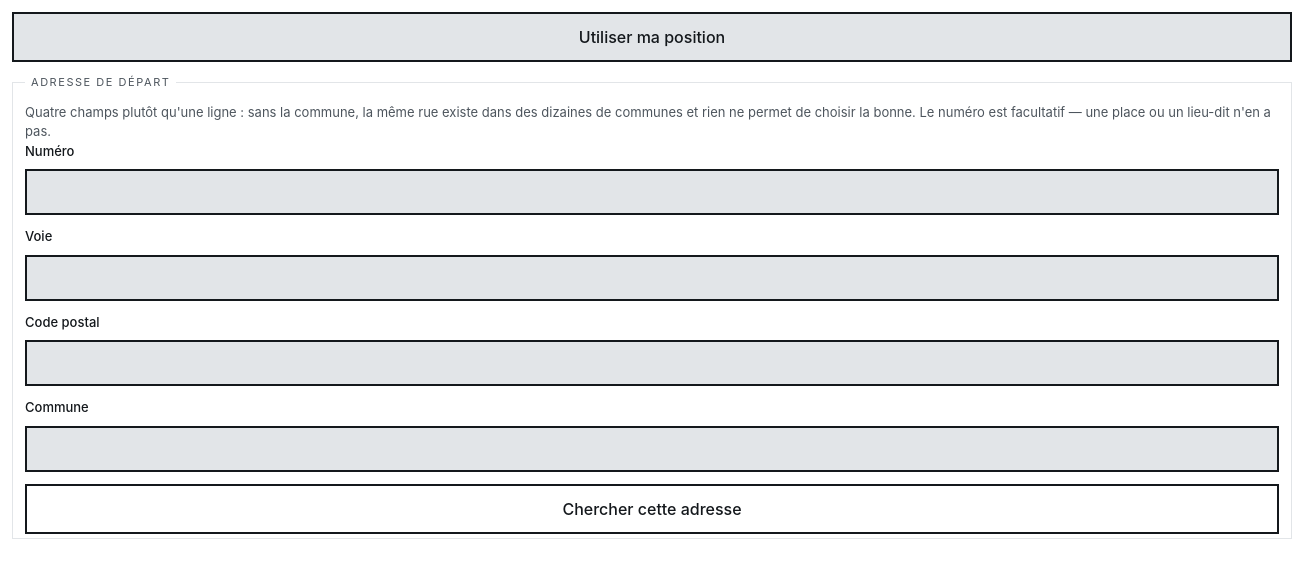
le formulaire à champs obligatoires › affiche la phrase de l'API quand aucune adresse n'est trouvée
Type "7" into the field labelled "Numéro" at (652, 192), box [25, 169, 1279, 215]
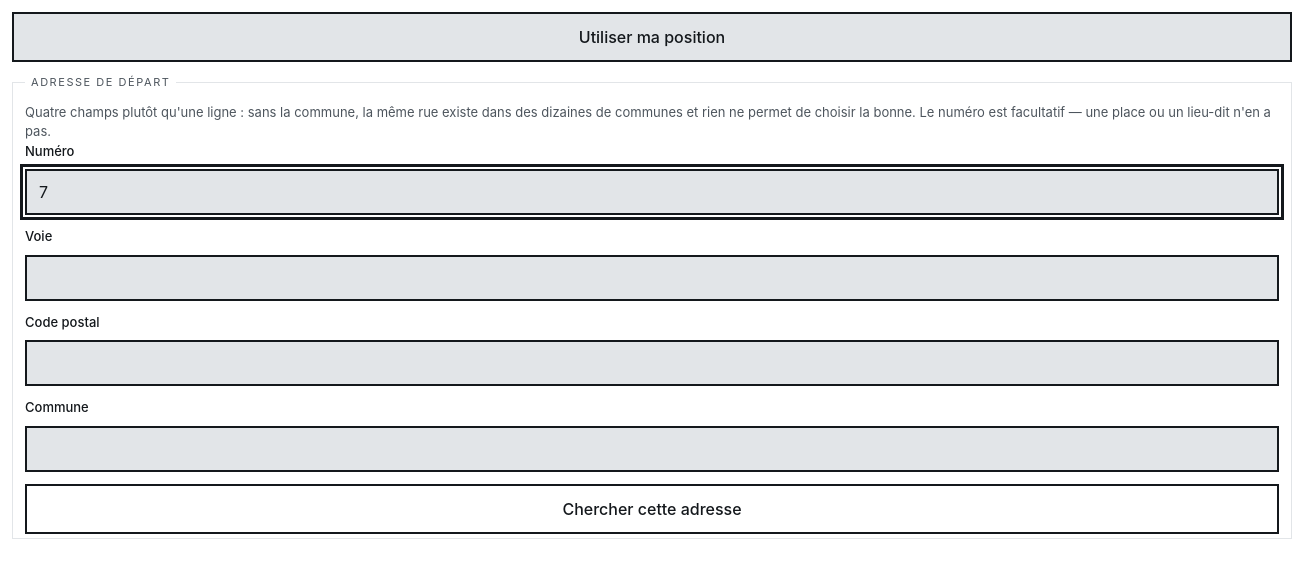
Type "Rue du If" into the field labelled "Voie" at (652, 278), box [25, 254, 1279, 300]
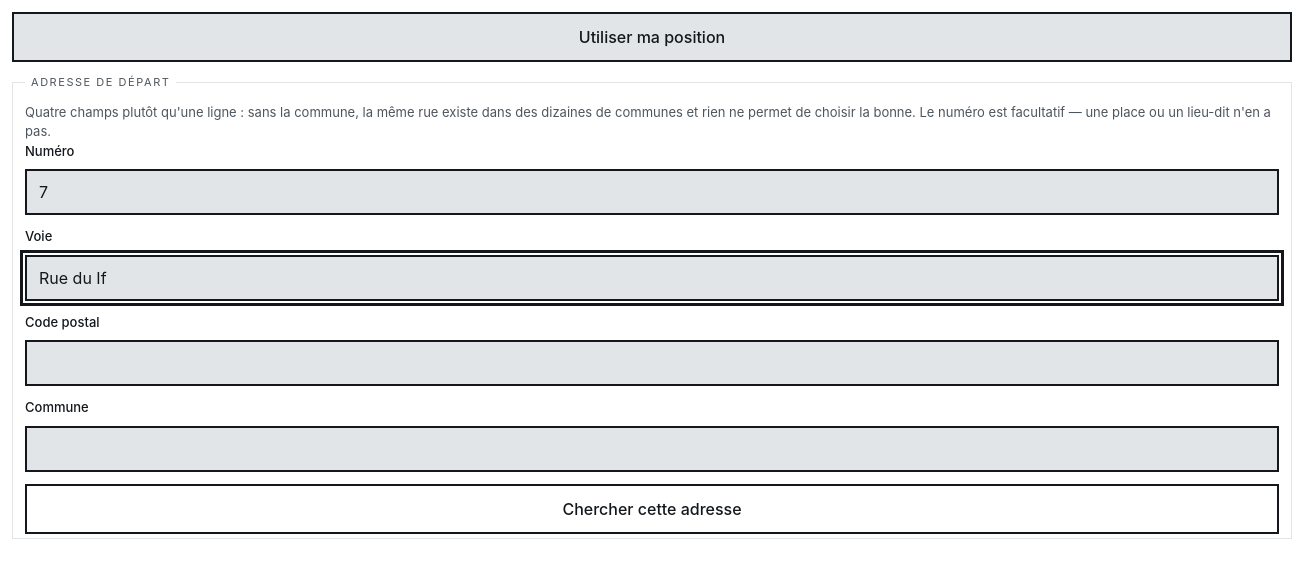
Type "44999" into the field labelled "Code postal" at (652, 363), box [25, 340, 1279, 386]
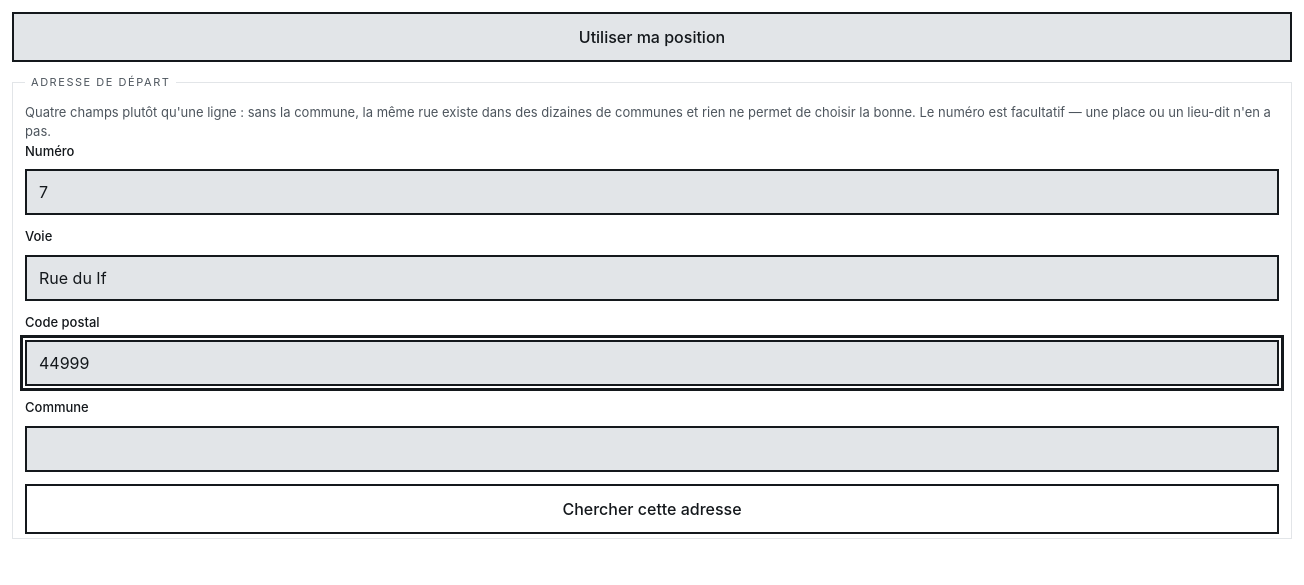
Type "Vallombreuse" into the field labelled "Commune" at (652, 448), box [25, 426, 1279, 472]
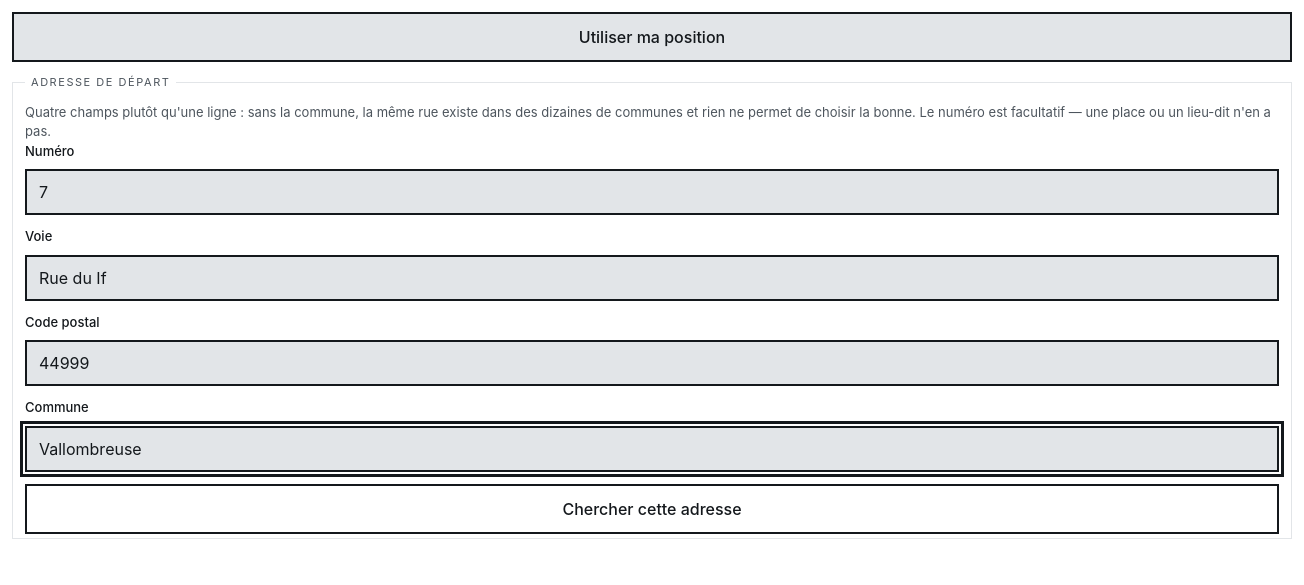
Click the button "Chercher cette adresse" at (652, 508), box [25, 484, 1279, 534]
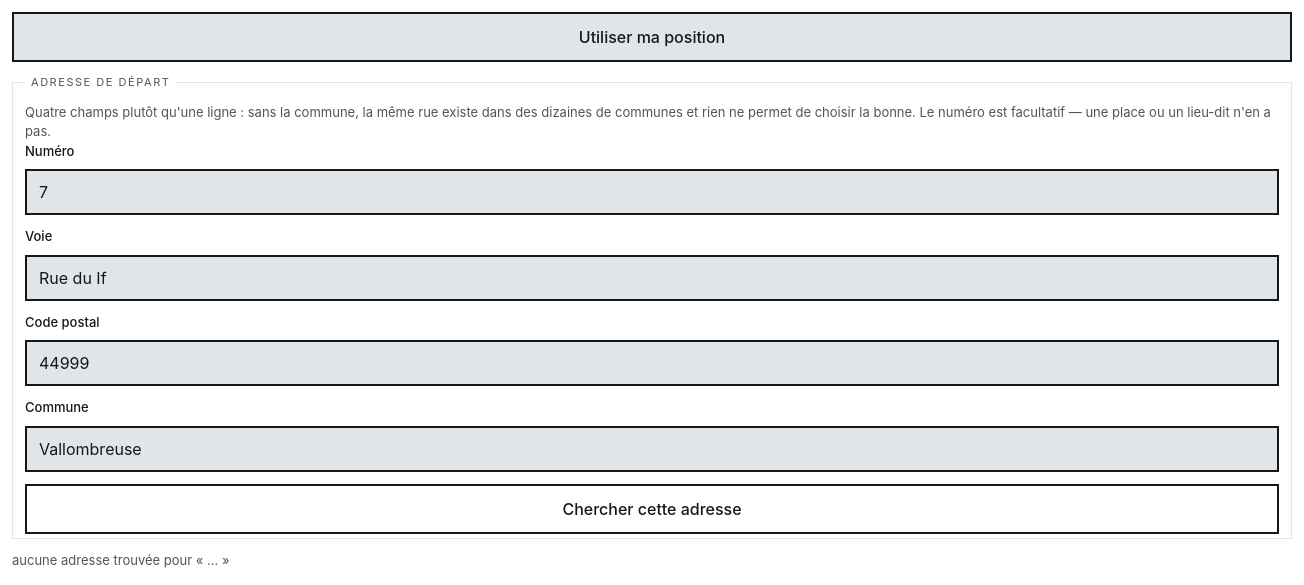
Expected: the text "aucune adresse trouvée pour « … »" is shown, [12, 552, 230, 568]
